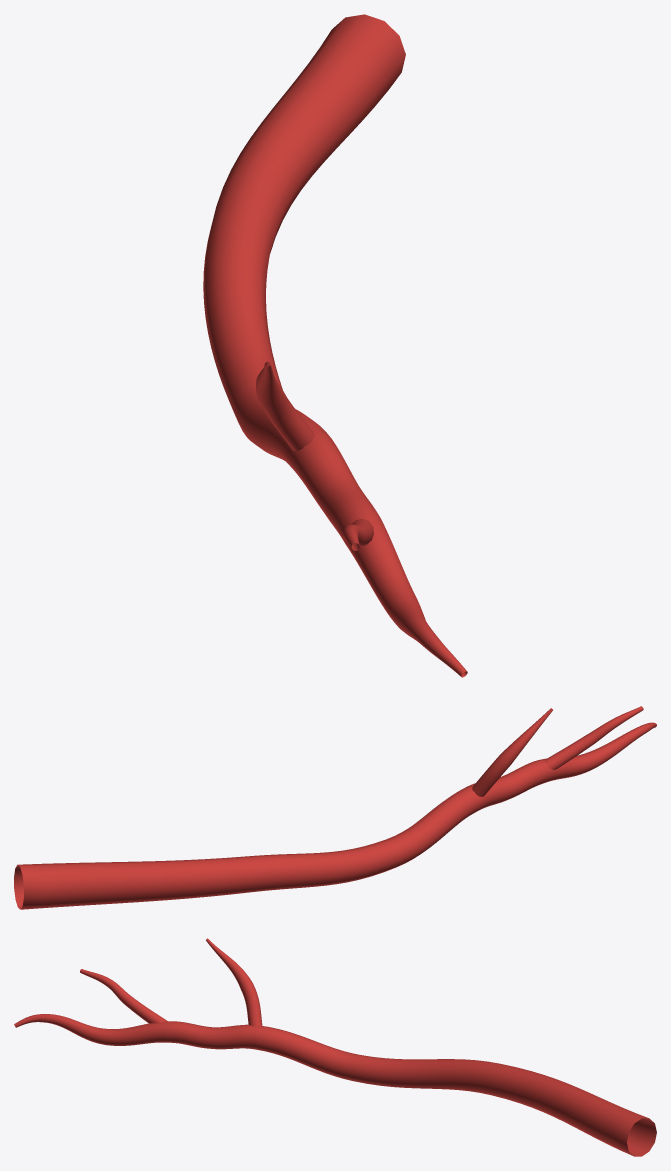
3 views of the same model, one above another, from view 1: azimuth 30°, elevation 25°; view 2: azimuth 150°, elevation 25°; view 3: azimuth 270°, elevation 25° (orthographic). The views are drawn at different scales.
Parts seen in each view (by area): view 1: 右侧颞深后动脉; view 2: 右侧颞深后动脉; view 3: 右侧颞深后动脉.
Part boxes in pixels (bbox=[...]): 右侧颞深后动脉: bbox=[203, 14, 467, 677]; 右侧颞深后动脉: bbox=[14, 706, 656, 909]; 右侧颞深后动脉: bbox=[14, 938, 656, 1156].
Bounding box in the file's own units: 0.0372 × 0.0128 × 0.0691.
